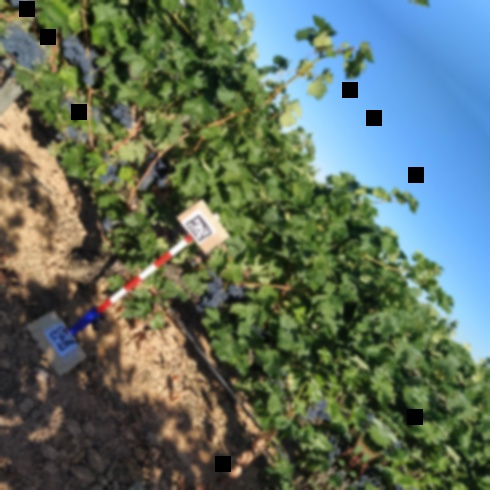QR: (182, 212, 215, 245), (45, 322, 78, 355)
